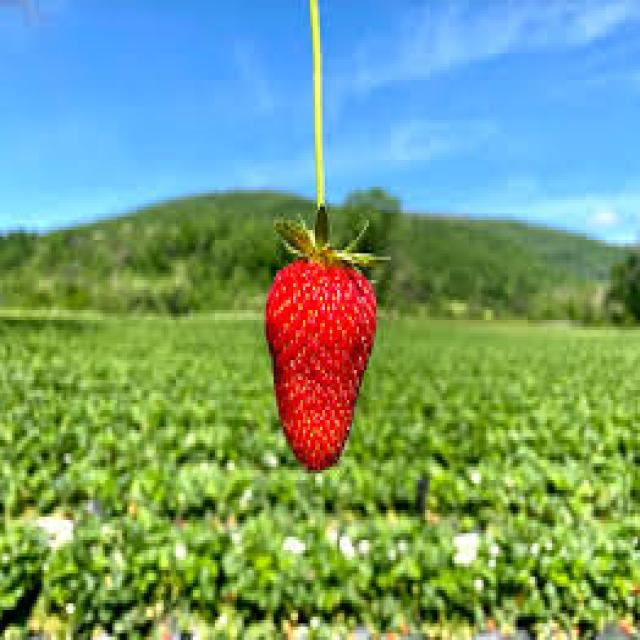strawberry: (253, 200, 374, 482)
